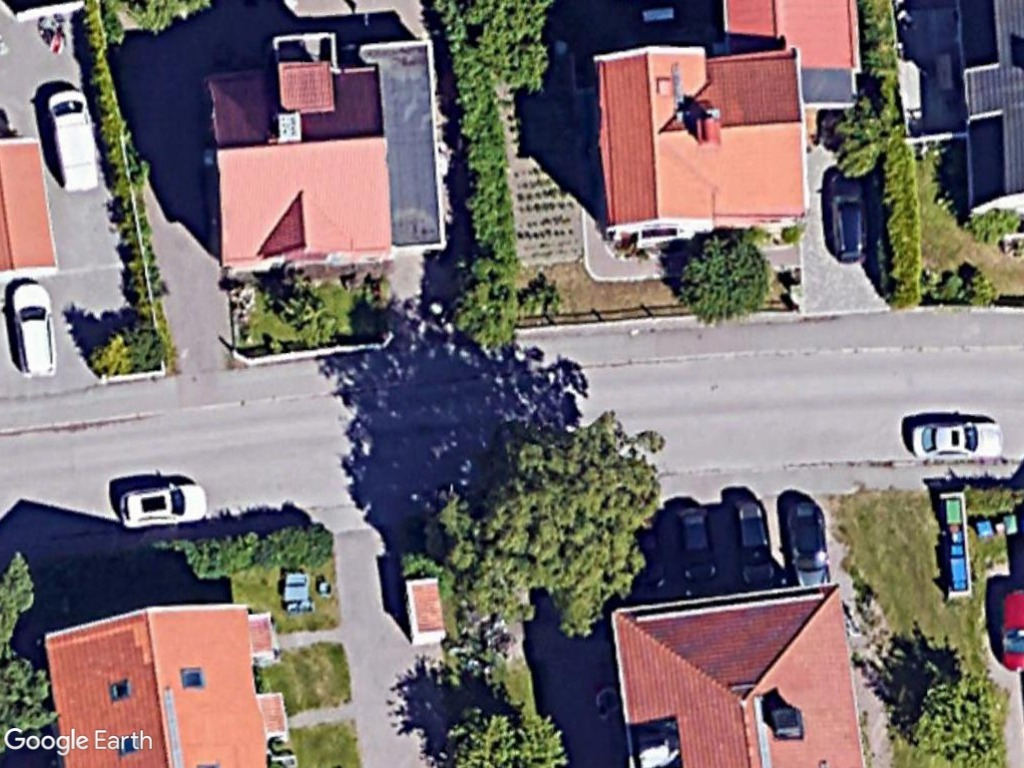car: (1, 272, 67, 391), (903, 412, 1012, 469), (818, 169, 879, 270), (111, 475, 209, 533)
van: (44, 84, 107, 196)
